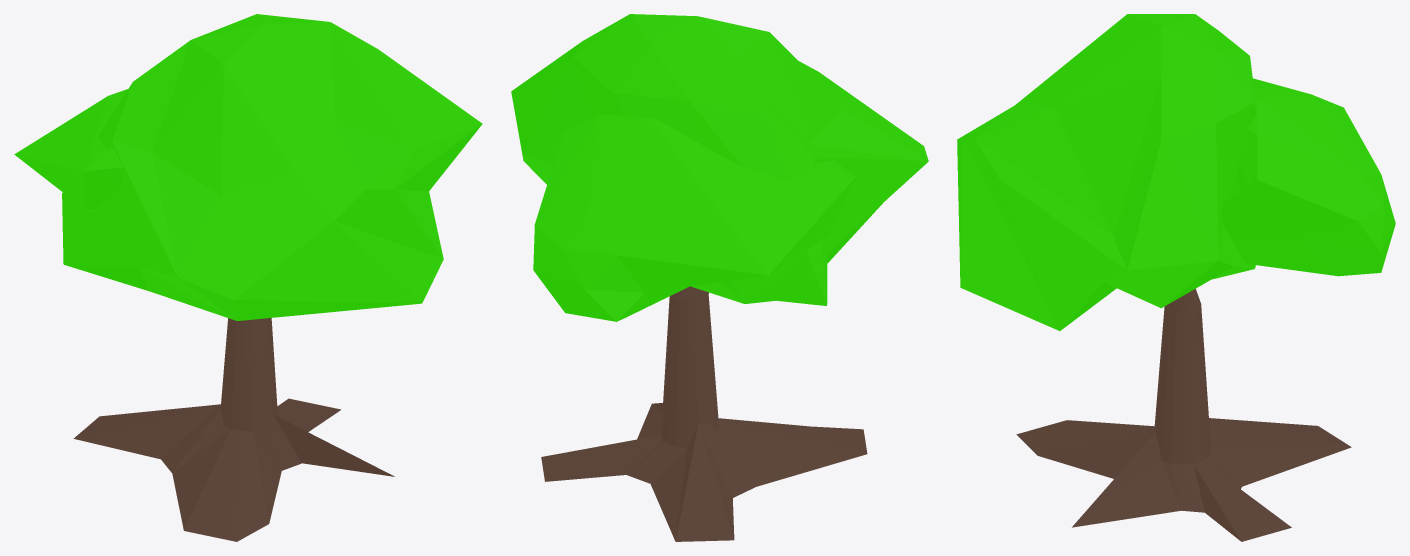
Rendered from tree.glb.
3 renders of one model, left to right at view 1: azimuth 30°, elevation 25°; view 2: azimuth 150°, elevation 25°; view 3: azimuth 270°, elevation 25°, orthographic. The views are drawn at different scales.
Parts seen in each view (by area): view 1: Tree; view 2: Tree; view 3: Tree.
Boxes of the visible parts, bbox=[...] form: Tree: bbox=[14, 14, 482, 541]; Tree: bbox=[511, 14, 928, 541]; Tree: bbox=[957, 14, 1395, 541].
Bounding box in the file's own units: 11.49 × 13.06 × 11.39.
